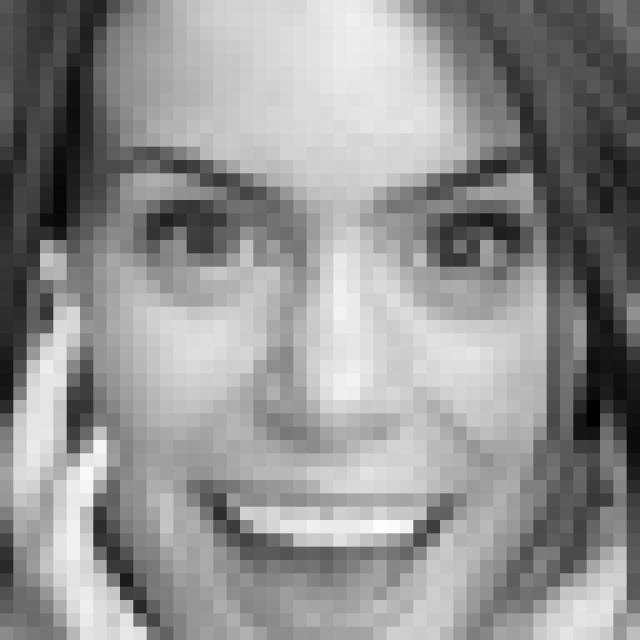happy: (120, 134, 547, 640)
